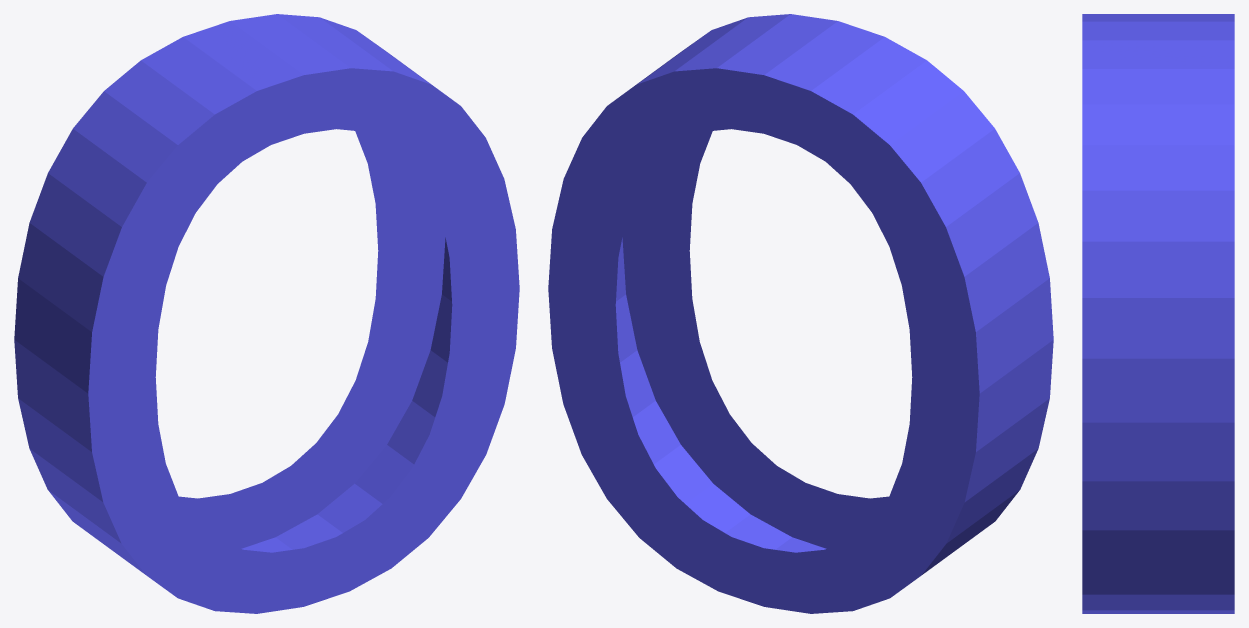
Rendered from original-12.obj.
3 renders of one model, left to right at view 1: azimuth 30°, elevation 25°; view 2: azimuth 150°, elevation 25°; view 3: azimuth 270°, elevation 25°, orthographic. The views are drawn at different scales.
Parts seen in each view (by area): view 1: #ID32; view 2: #ID32; view 3: #ID32.
Part boxes in pixels (box(x1,y1,x2,y2)): #ID32: box(14, 14, 519, 613); #ID32: box(548, 14, 1053, 613); #ID32: box(1082, 14, 1234, 613).
Size of the model in its own units: 0.0649 by 0.0764 by 0.0193.
